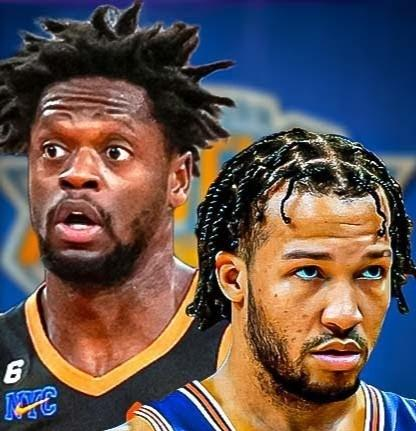normal: (209, 115, 416, 426)
surpreso: (5, 2, 232, 281), (230, 183, 238, 187)
